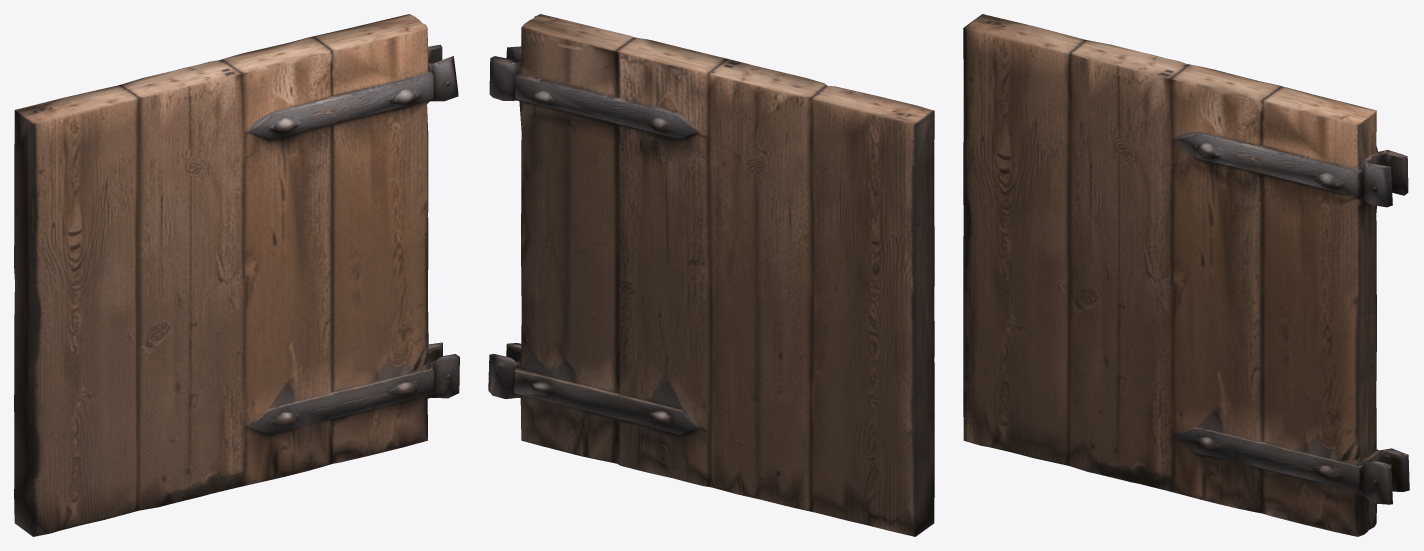
Rendered from window.glb.
3 views of the same model, side by side, from view 1: azimuth 30°, elevation 25°; view 2: azimuth 150°, elevation 25°; view 3: azimuth 330°, elevation 25° (orthographic).
Parts seen in each view (by area): view 1: Mesh_0; view 2: Mesh_0; view 3: Mesh_0.
Part boxes in pixels (x1=…): Mesh_0: x1=14, y1=14, x2=459, y2=536; Mesh_0: x1=488, y1=14, x2=934, y2=536; Mesh_0: x1=963, y1=14, x2=1409, y2=536.
Size of the model in its own units: 2 by 1.84 by 0.2629.
Materials: 1 (1 with a texture image).
